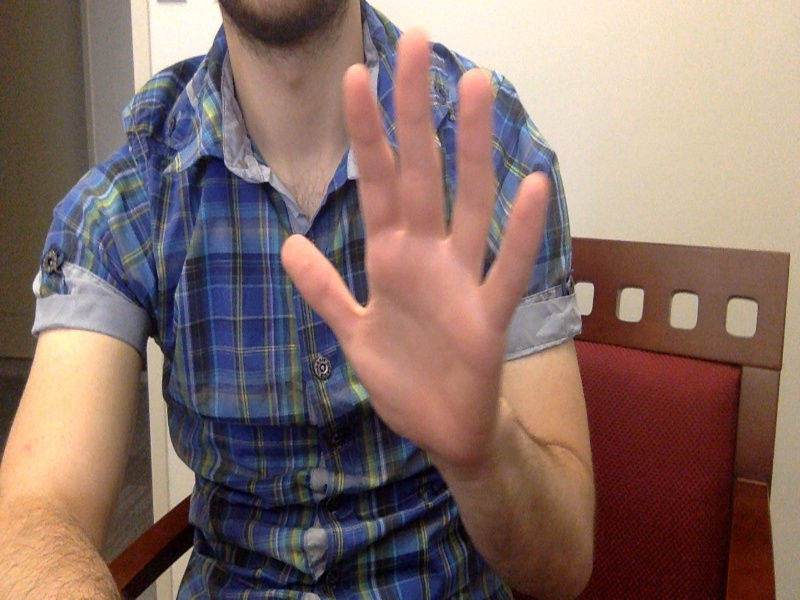5-hand: (279, 26, 550, 459)
